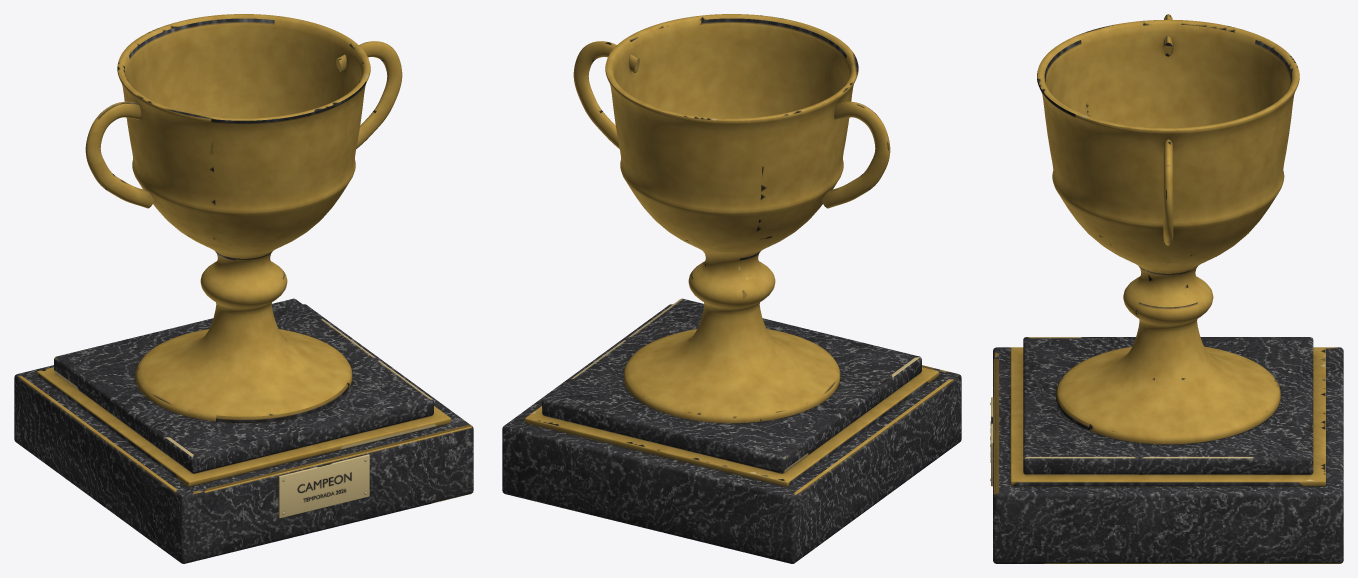
File: trofeo.obj
The picture shows the model from 3 angles, left to right: view 1: azimuth 30°, elevation 25°; view 2: azimuth 150°, elevation 25°; view 3: azimuth 270°, elevation 25°; orthographic projection. The views are drawn at different scales.
Parts seen in each view (by area): view 1: copa, base_marmol, base_superior, banda_dorada, placa, asa_izq, asa_der; view 2: copa, base_marmol, base_superior, banda_dorada, asa_izq, asa_der; view 3: copa, base_marmol, base_superior, banda_dorada, asa_der.
Boxes of the visible parts, <box> form: copa: <box>117,14,370,423</box>; base_marmol: <box>14,304,473,563</box>; base_superior: <box>54,298,433,473</box>; banda_dorada: <box>37,367,450,486</box>; placa: <box>278,454,369,518</box>; asa_izq: <box>85,101,154,208</box>; asa_der: <box>336,41,402,148</box>; copa: <box>605,14,858,423</box>; base_marmol: <box>502,304,961,563</box>; base_superior: <box>542,298,921,473</box>; banda_dorada: <box>525,367,938,486</box>; asa_izq: <box>821,101,890,208</box>; asa_der: <box>573,41,639,148</box>; copa: <box>1037,19,1299,444</box>; base_marmol: <box>993,347,1343,563</box>; base_superior: <box>1023,337,1313,474</box>; banda_dorada: <box>1010,348,1325,486</box>; asa_der: <box>1163,139,1173,245</box>.
Size of the model in its own units: 3 by 3.64 by 2.8.
Materials: 1 (1 with a texture image).
